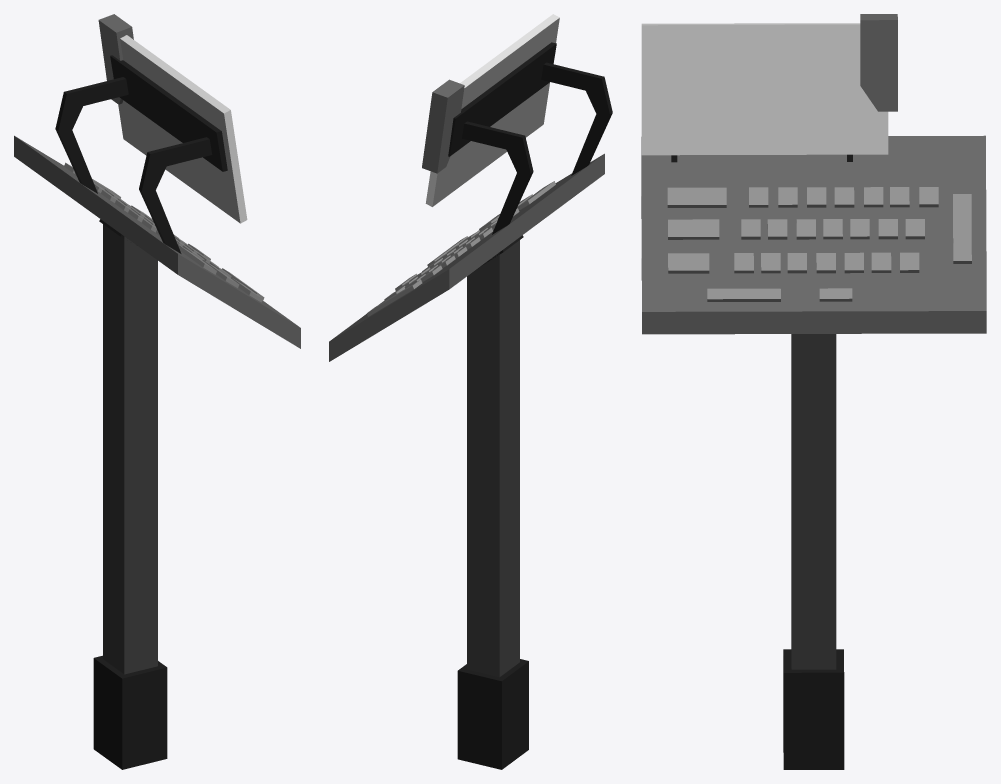
File: console_B.FBX
The picture shows the model from 3 angles, left to right: view 1: azimuth 30°, elevation 25°; view 2: azimuth 150°, elevation 25°; view 3: azimuth 270°, elevation 25°; orthographic projection. The views are drawn at different scales.
Parts seen in each view (by area): view 1: console_B, console_B_glow; view 2: console_B, console_B_glow; view 3: console_B, console_B_glow.
Boxes of the visible parts, x1,y1,x2,y2 form: console_B: (14, 14, 300, 769); console_B_glow: (118, 35, 247, 223); console_B: (329, 42, 612, 769); console_B_glow: (425, 14, 559, 206); console_B: (641, 14, 986, 769); console_B_glow: (641, 23, 888, 155).
Size of the model in its own units: 13.31 by 61.27 by 25.58.
